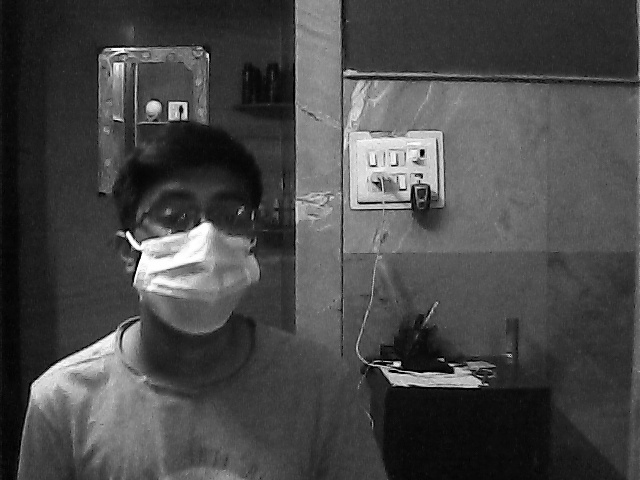mask: (129, 185, 264, 343)
